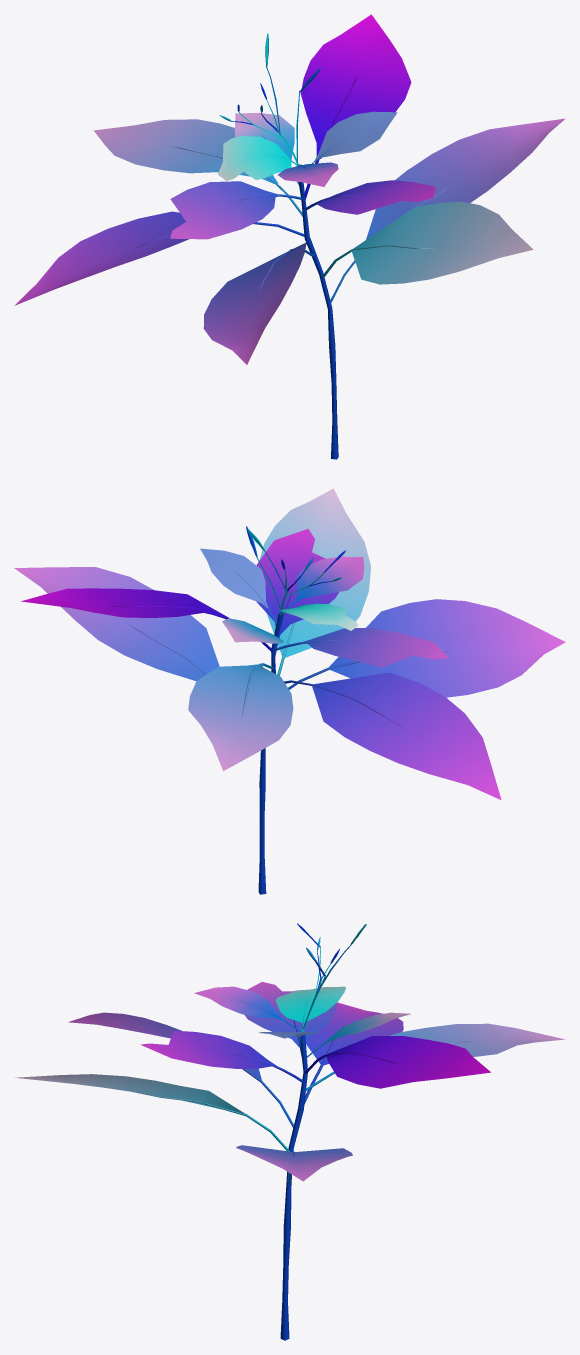
File: xefmcgrqx_VarB_LOD0.fbx
3 renders of one model, top to bottom at view 1: azimuth 30°, elevation 25°; view 2: azimuth 150°, elevation 25°; view 3: azimuth 270°, elevation 25°, orthographic.
Parts seen in each view (by area): view 1: _scb5_VarB_LOD1; view 2: _scb5_VarB_LOD1; view 3: _scb5_VarB_LOD1.
Boxes of the visible parts, x1,y1,x2,y2 form: _scb5_VarB_LOD1: [14, 14, 565, 459]; _scb5_VarB_LOD1: [14, 488, 565, 894]; _scb5_VarB_LOD1: [15, 923, 565, 1340].
Size of the model in its own units: 39.16 by 28.86 by 35.89.
